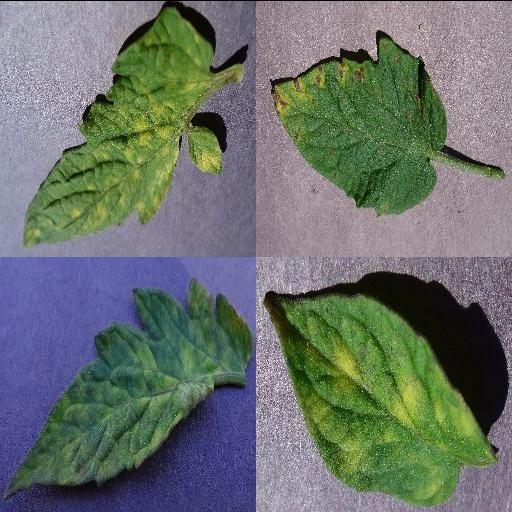Leaf Mold: (1, 276, 256, 500), (262, 291, 496, 507), (20, 6, 226, 248)
Septoria: (272, 36, 450, 214)
